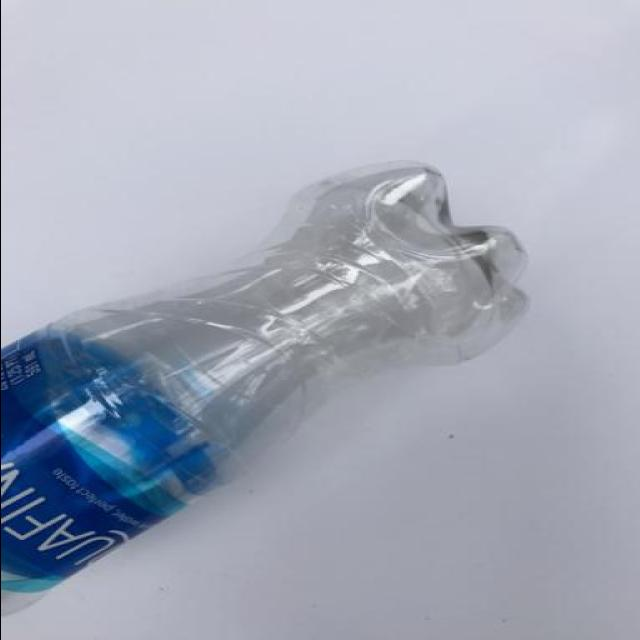litter: (1, 160, 532, 622)
